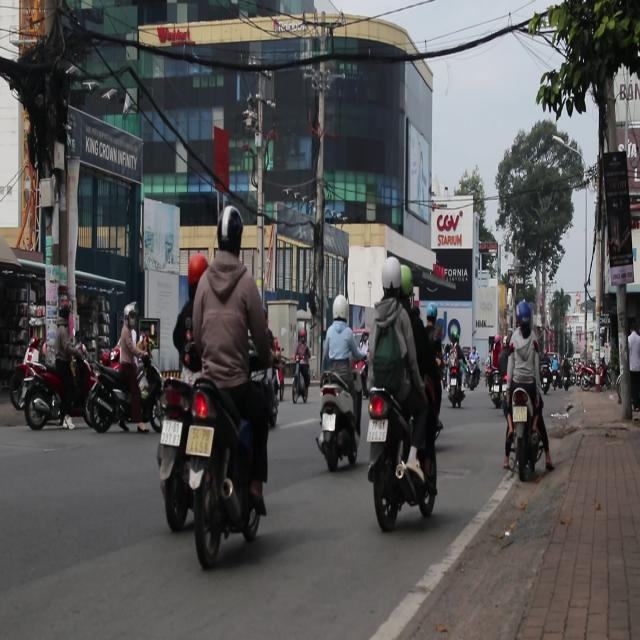motorbike: (152, 364, 264, 568), (362, 384, 442, 523), (76, 343, 155, 433), (316, 370, 362, 472), (15, 347, 66, 429), (510, 387, 542, 479), (7, 344, 43, 413), (290, 352, 313, 411), (540, 362, 554, 393)
